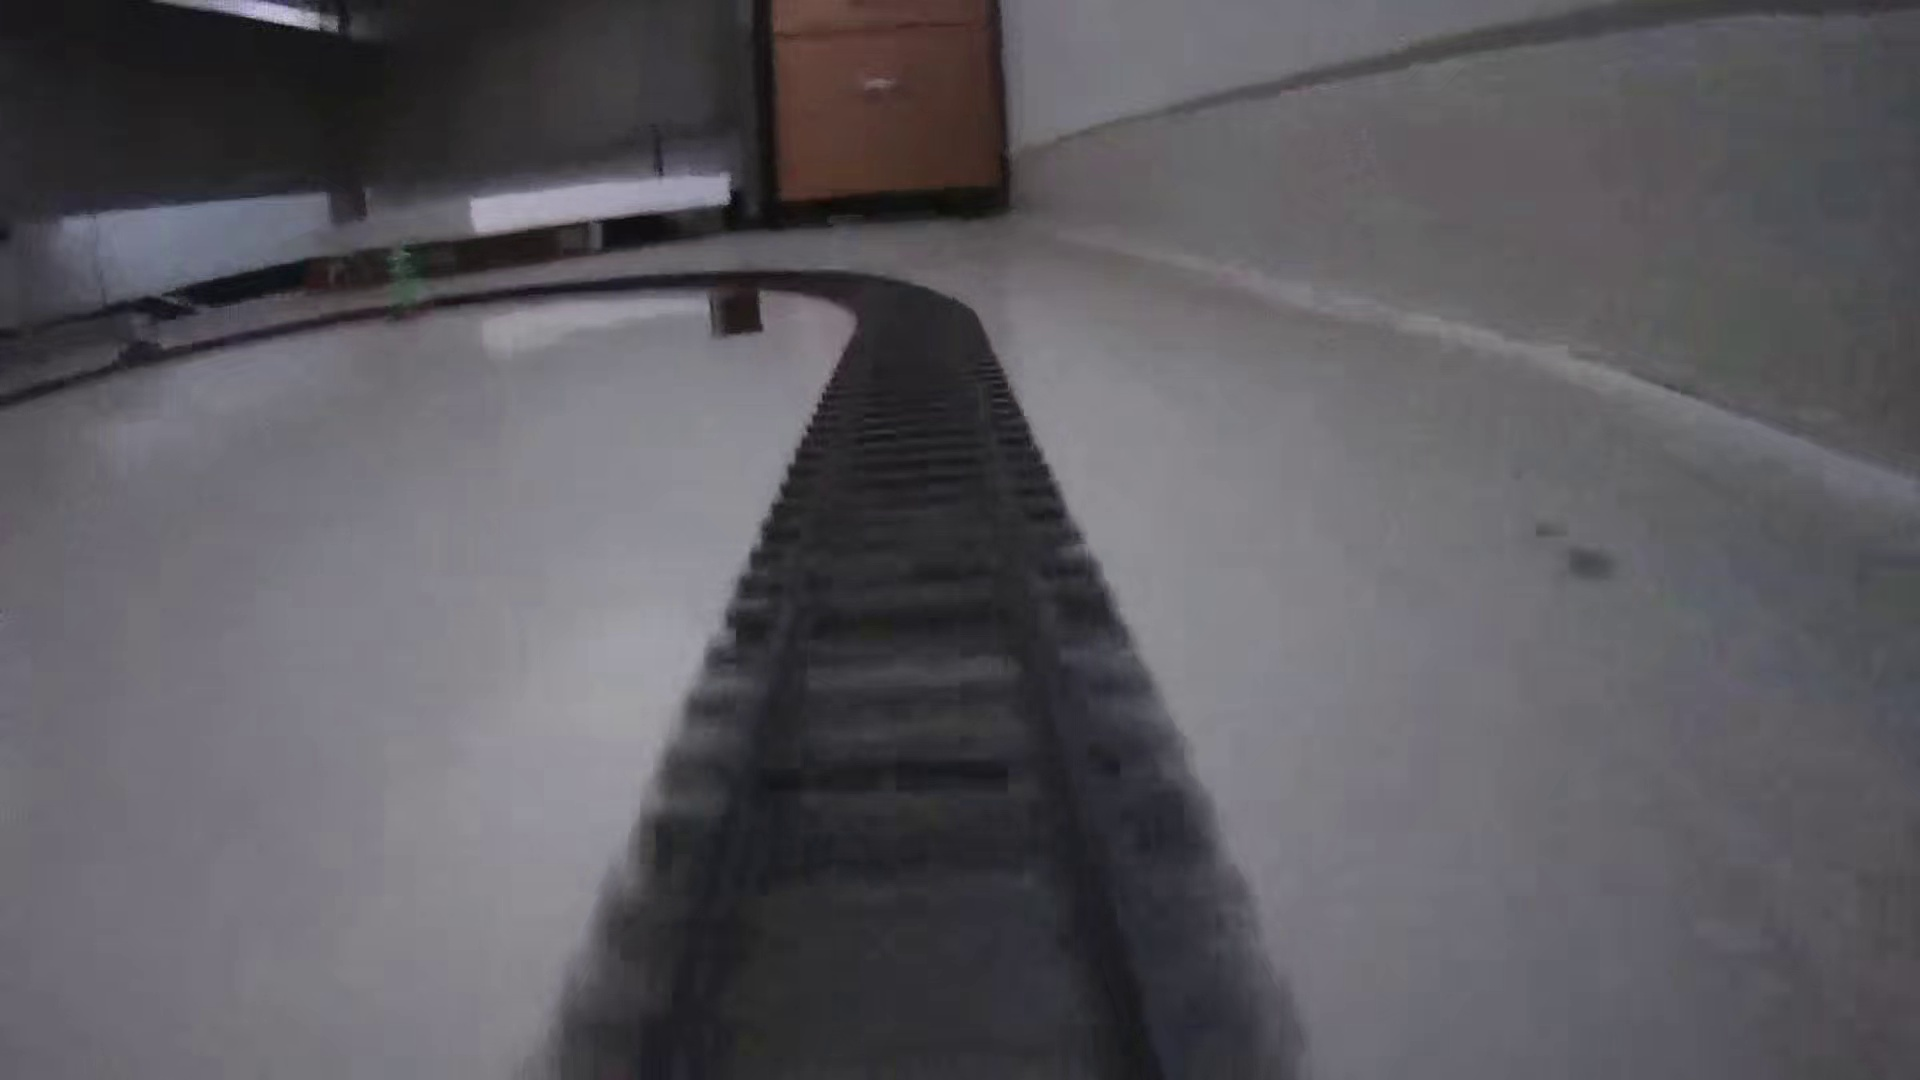box: (701, 277, 768, 345)
tree: (375, 235, 431, 324)
